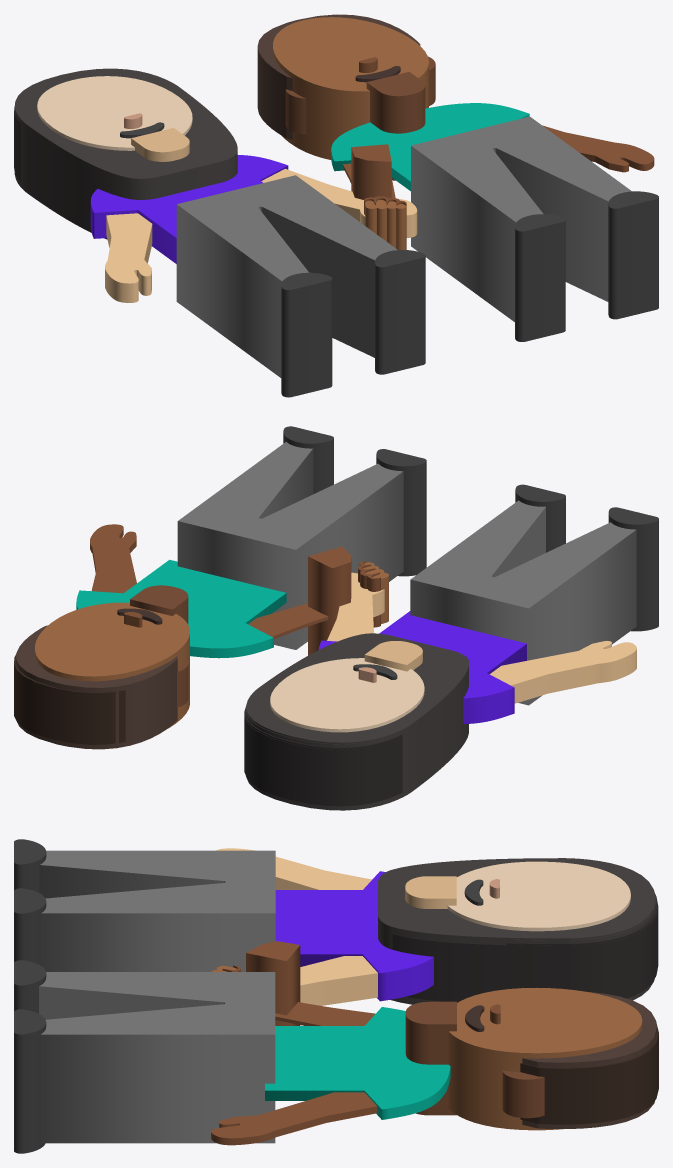
Rendered from emoji_u1f469_1f3fb_200d_1f91d_200d_1f468_1f3fe.glb.
3 views of the same model, one above another, from view 1: azimuth 30°, elevation 25°; view 2: azimuth 150°, elevation 25°; view 3: azimuth 270°, elevation 25° (orthographic). The views are drawn at different scales.
Visible parts, largest first — view 1: emoji_u1f469_1f3fb_200d_1f91d_200d_1f468_1f3fe; view 2: emoji_u1f469_1f3fb_200d_1f91d_200d_1f468_1f3fe; view 3: emoji_u1f469_1f3fb_200d_1f91d_200d_1f468_1f3fe.
Part boxes in pixels (x1,y1,x2,y2): emoji_u1f469_1f3fb_200d_1f91d_200d_1f468_1f3fe: (14, 14, 658, 397); emoji_u1f469_1f3fb_200d_1f91d_200d_1f468_1f3fe: (14, 426, 658, 810); emoji_u1f469_1f3fb_200d_1f91d_200d_1f468_1f3fe: (14, 839, 658, 1153).
Bounding box in the file's own units: 0.0346 × 0.0068 × 0.0334.
